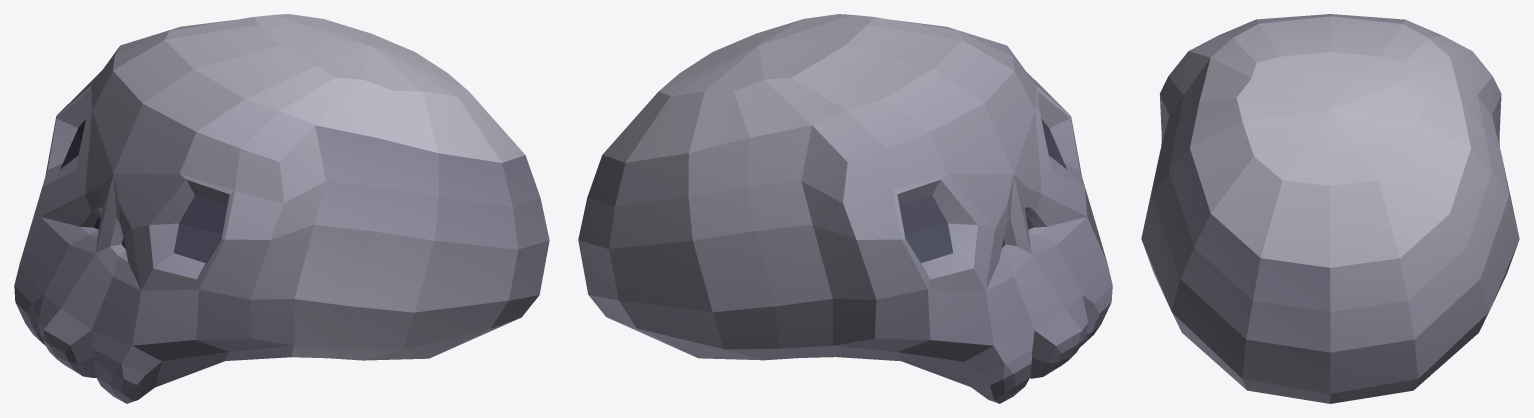
File: Skull.fbx
3 views of the same model, side by side, from view 1: azimuth 30°, elevation 25°; view 2: azimuth 150°, elevation 25°; view 3: azimuth 270°, elevation 25° (orthographic). The views are drawn at different scales.
Visible parts, largest first — view 1: Skull; view 2: Skull; view 3: Skull.
Boxes of the visible parts, x1=… form: Skull: x1=14, y1=14, x2=549, y2=403; Skull: x1=578, y1=14, x2=1112, y2=403; Skull: x1=1141, y1=14, x2=1519, y2=403.
Bounding box in the file's own units: 110 × 68.99 × 85.84.
